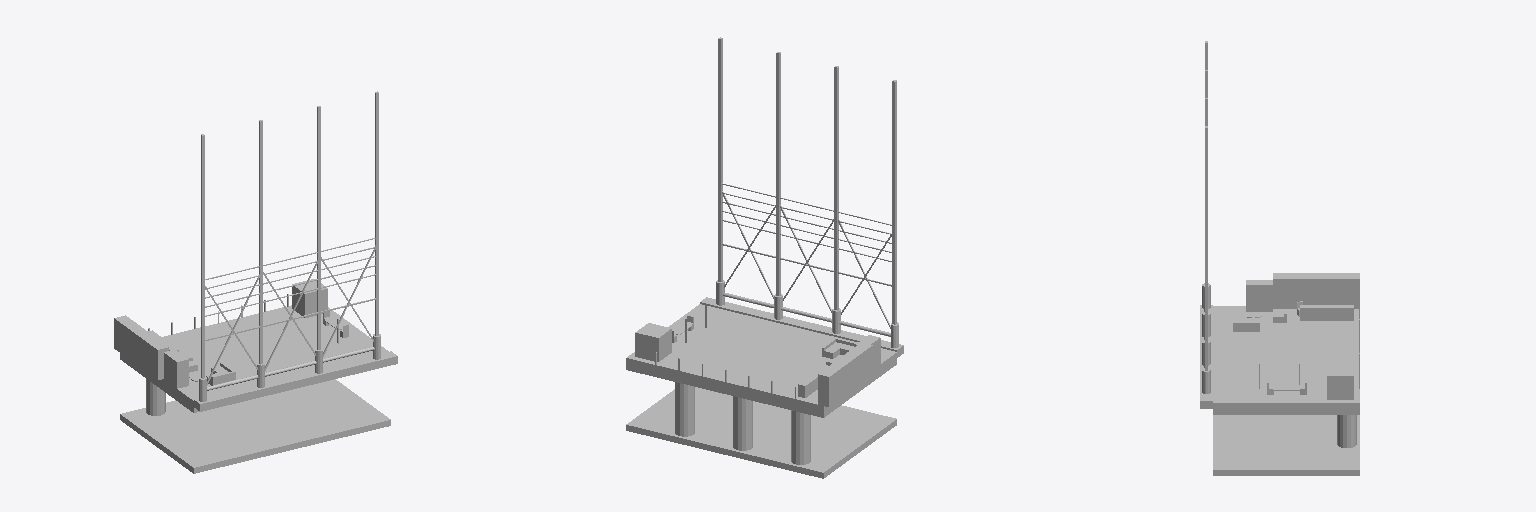
File: ExportedObj;1-1_71.obj
3 renders of one model, left to right at view 1: azimuth 30°, elevation 25°; view 2: azimuth 150°, elevation 25°; view 3: azimuth 270°, elevation 25°, orthographic.
Visible parts, largest first — view 1: cube (5), FloorTile2x2, Cube, cube (6), cube (12), ElevatorShaft, cube (11), cylinder (2), cube (4), cylinder (4); view 2: FloorTile2x2, cube (5), Cube, cube (12), cube (4), cube (6), cylinder (1), cylinder (2), cylinder (3), ElevatorShaft, cylinder (4), cube (1); view 3: FloorTile2x2, cube (5), cube (12), Cube, ElevatorShaft, cube (4), cube (11), cube (13), cylinder (3), cube (6).
Part boxes in pixels (bbox=[...]): cube (5): bbox=[120, 238, 390, 473]; FloorTile2x2: bbox=[120, 305, 388, 406]; Cube: bbox=[201, 91, 378, 378]; cube (6): bbox=[194, 311, 397, 411]; cube (12): bbox=[114, 315, 168, 379]; ElevatorShaft: bbox=[292, 279, 327, 317]; cube (11): bbox=[164, 350, 188, 388]; cylinder (2): bbox=[146, 362, 264, 415]; cube (4): bbox=[120, 247, 374, 412]; cylinder (4): bbox=[207, 347, 374, 390]; FloorTile2x2: bbox=[626, 304, 896, 411]; cube (5): bbox=[626, 183, 896, 478]; Cube: bbox=[718, 37, 896, 324]; cube (12): bbox=[818, 342, 872, 406]; cube (4): bbox=[626, 193, 896, 417]; cube (6): bbox=[700, 297, 903, 381]; cylinder (1): bbox=[733, 294, 782, 450]; cylinder (2): bbox=[791, 308, 840, 464]; cylinder (3): bbox=[675, 322, 898, 436]; ElevatorShaft: bbox=[635, 323, 671, 361]; cylinder (4): bbox=[723, 293, 890, 336]; cube (1): bbox=[685, 220, 891, 364]; FloorTile2x2: bbox=[1213, 306, 1359, 408]; cube (5): bbox=[1213, 353, 1359, 475]; cube (12): bbox=[1273, 273, 1359, 308]; Cube: bbox=[1205, 41, 1207, 370]; ElevatorShaft: bbox=[1327, 364, 1353, 399]; cube (4): bbox=[1213, 365, 1359, 414]; cube (11): bbox=[1246, 280, 1272, 311]; cube (13): bbox=[1300, 305, 1353, 320]; cylinder (3): bbox=[1202, 283, 1356, 447]; cube (6): bbox=[1200, 305, 1359, 408].
Bounding box in the file's own units: 17.5 × 28 × 12.